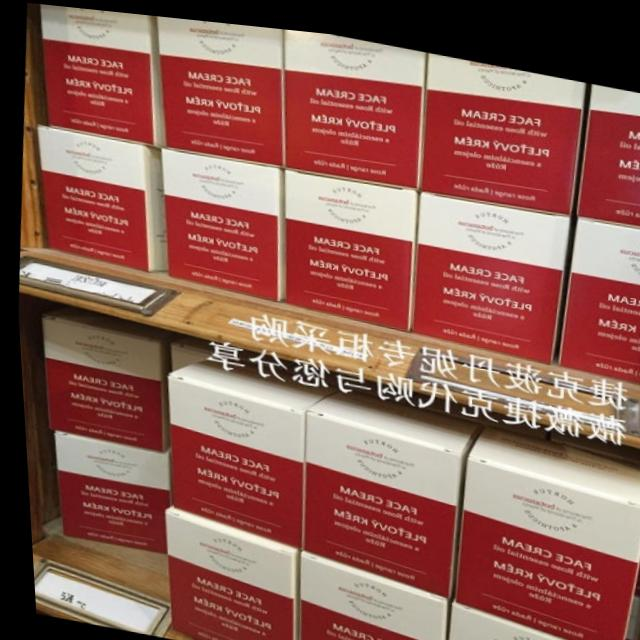box: (446, 413, 640, 640), (295, 379, 482, 594), (162, 350, 337, 545), (408, 181, 569, 354), (416, 44, 586, 203), (281, 23, 427, 183), (282, 160, 416, 323), (159, 143, 283, 298), (33, 122, 163, 269), (36, 305, 168, 448), (156, 13, 283, 161), (158, 504, 293, 640), (39, 3, 164, 145), (552, 202, 640, 371), (291, 545, 445, 640), (47, 428, 166, 549), (573, 71, 640, 214), (438, 591, 598, 640), (165, 333, 210, 368)
